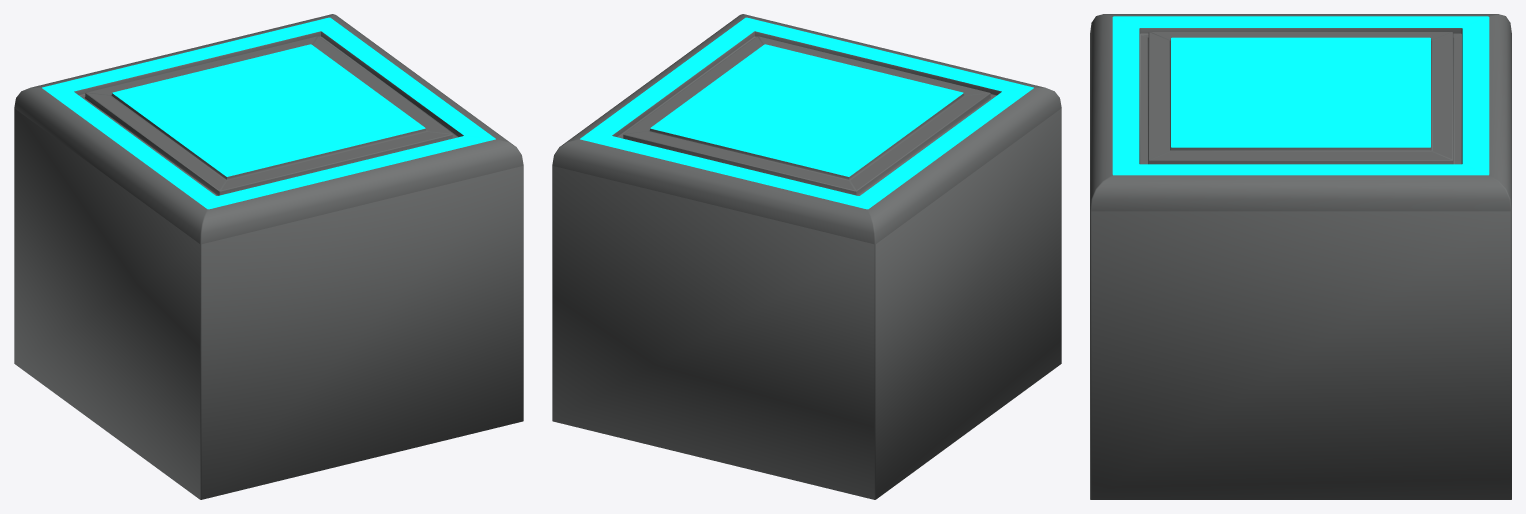
Rendered from DeskBeacon.fbx.
The picture shows the model from 3 angles, left to right: view 1: azimuth 30°, elevation 25°; view 2: azimuth 150°, elevation 25°; view 3: azimuth 270°, elevation 25°; orthographic projection. The views are drawn at different scales.
Parts seen in each view (by area): view 1: DeskBeacon; view 2: DeskBeacon; view 3: DeskBeacon.
Part boxes in pixels (x1,y1,x2,y2): DeskBeacon: [14, 14, 523, 499]; DeskBeacon: [552, 14, 1061, 499]; DeskBeacon: [1090, 14, 1511, 499].
Size of the model in its own units: 60 by 50 by 60.
Materials: 1 (1 with a texture image).
